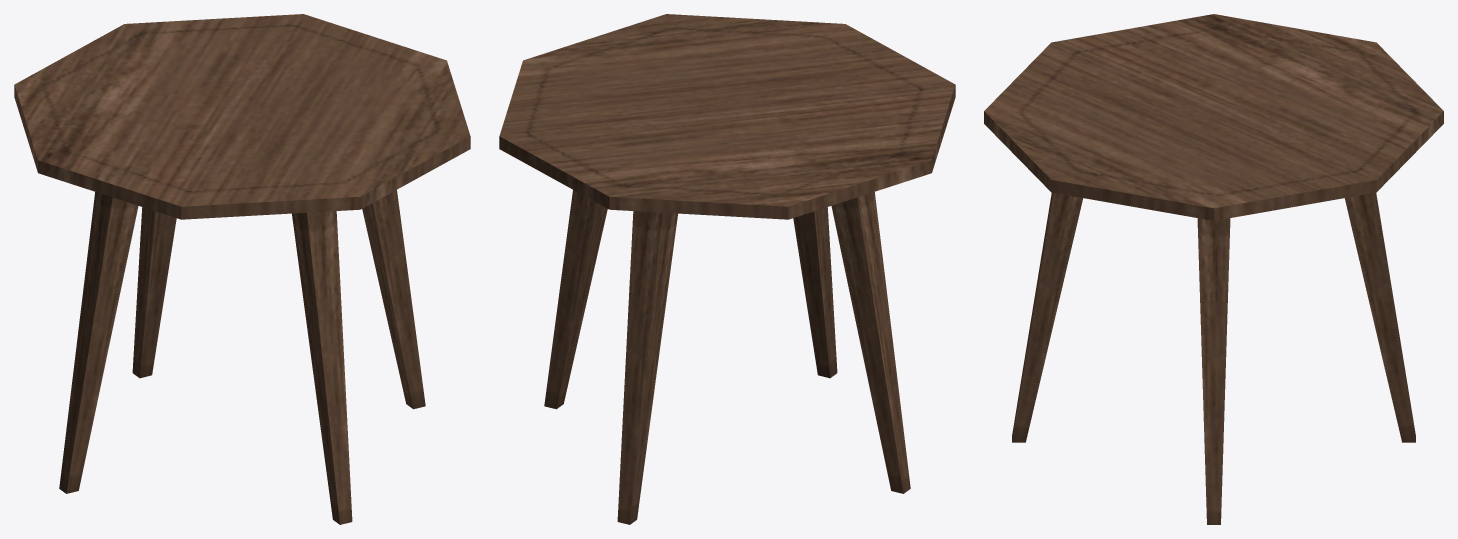
Rendered from [PSX] Coffee Table Model.fbx.
3 views of the same model, side by side, from view 1: azimuth 30°, elevation 25°; view 2: azimuth 150°, elevation 25°; view 3: azimuth 270°, elevation 25° (orthographic). The views are drawn at different scales.
Parts seen in each view (by area): view 1: Coffee Table; view 2: Coffee Table; view 3: Coffee Table.
Part boxes in pixels (x1,y1,x2,y2): Coffee Table: [14, 14, 470, 524]; Coffee Table: [499, 14, 955, 524]; Coffee Table: [984, 14, 1443, 524].
Bounding box in the file's own units: 66 × 52 × 66.
1 material, 1 textured.
